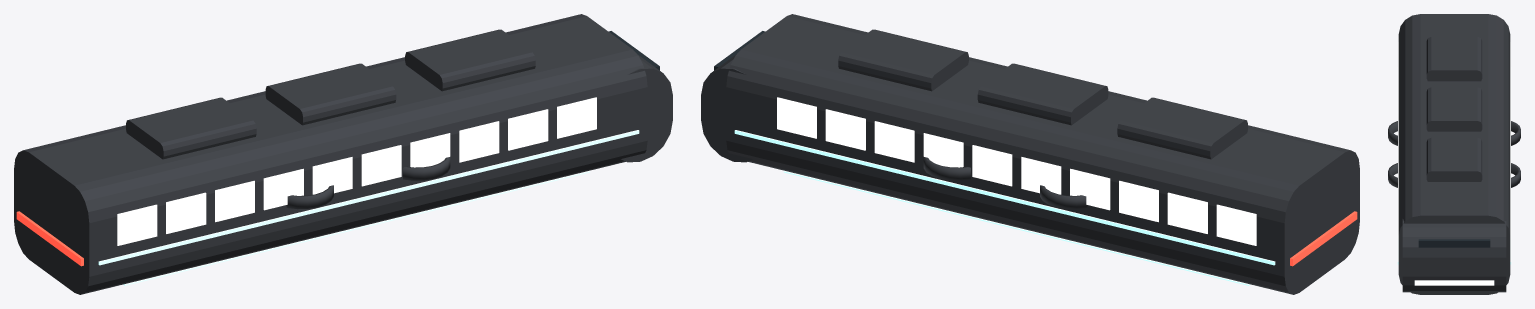
The model's file is flying_cars.glb.
The picture shows the model from 3 angles, left to right: view 1: azimuth 30°, elevation 25°; view 2: azimuth 150°, elevation 25°; view 3: azimuth 270°, elevation 25°; orthographic projection. The views are drawn at different scales.
Visible parts, largest first — view 1: SM_Car_Skybus, SM_Car_Courier; view 2: SM_Car_Skybus, SM_Car_Courier; view 3: SM_Car_Skybus, SM_Car_Courier.
Part boxes in pixels (x1,y1,x2,y2): SM_Car_Skybus: (14, 14, 672, 294); SM_Car_Courier: (286, 157, 450, 209); SM_Car_Skybus: (701, 14, 1359, 294); SM_Car_Courier: (923, 157, 1087, 209); SM_Car_Skybus: (1397, 14, 1511, 294); SM_Car_Courier: (1388, 121, 1520, 187).
Size of the model in its own units: 12.68 by 2.53 by 3.34.
